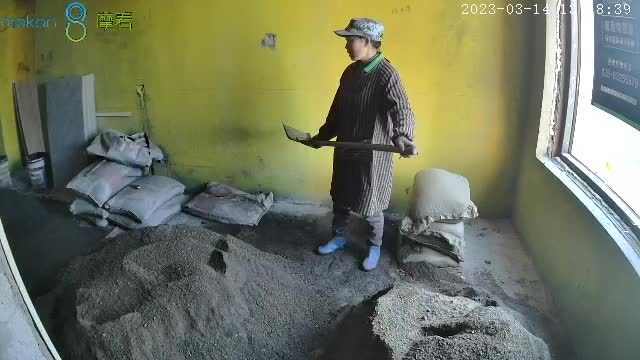people: (305, 18, 417, 270)
window: (555, 1, 640, 246)
